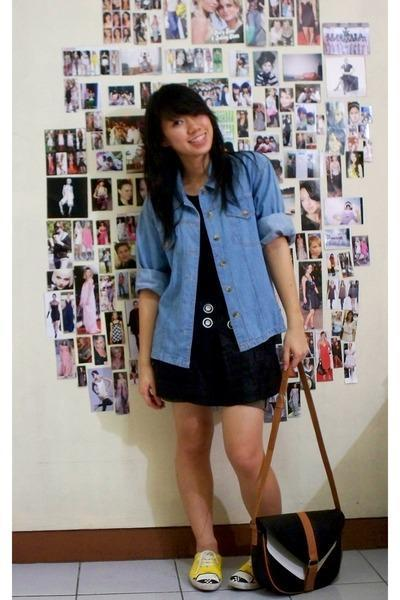bag: (242, 359, 344, 599)
dress: (150, 215, 284, 407)
shirt: (124, 161, 297, 367)
shoe: (190, 550, 220, 577)
